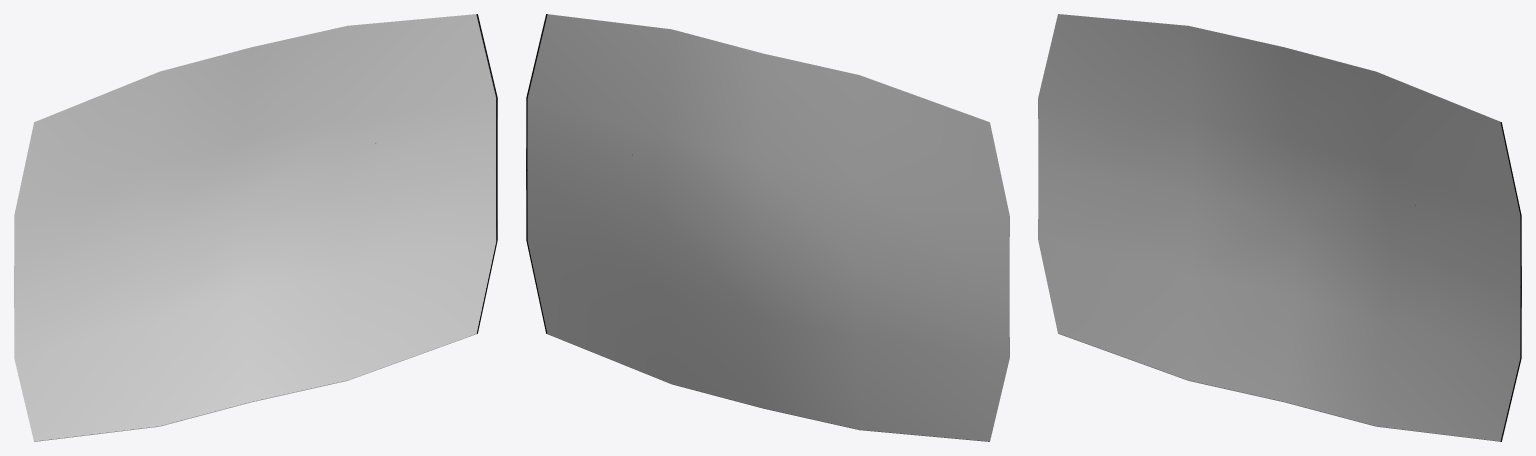
The model's file is SpiderWeb.fbx.
The picture shows the model from 3 angles, left to right: view 1: azimuth 30°, elevation 25°; view 2: azimuth 150°, elevation 25°; view 3: azimuth 330°, elevation 25°; orthographic projection.
Parts seen in each view (by area): view 1: Cobweb; view 2: Cobweb; view 3: Cobweb.
Boxes of the visible parts, box(x1,y1,x2,y2) form: Cobweb: box(14, 14, 497, 441); Cobweb: box(526, 14, 1009, 441); Cobweb: box(1038, 14, 1521, 441).
Bounding box in the file's own units: 157 × 110 × 9.58.
Materials: 1 (1 with a texture image).
